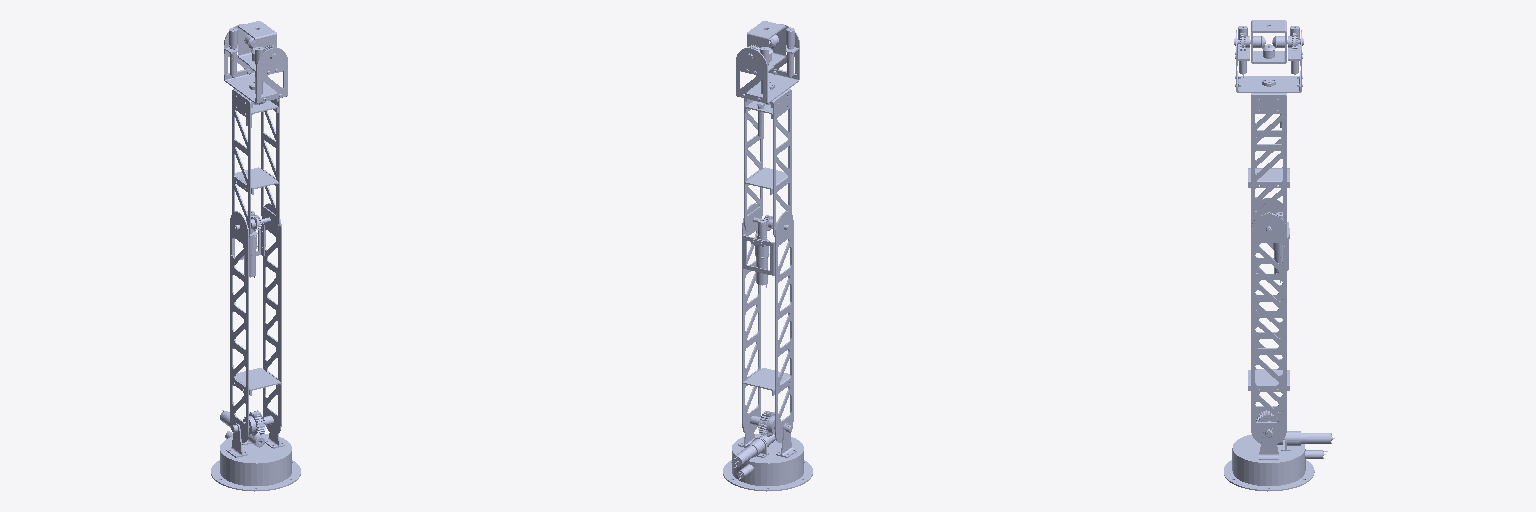
URDF robot description (HD15):
<?xml version="1.0" encoding="utf-8"?>
<!-- This URDF was automatically created by SolidWorks to URDF Exporter! Originally created by [author] ([email redacted]) 
     Commit Version: 1.6.0-1-g15f4949  Build Version: 1.6.7594.29634
     For more information, please see http://wiki.ros.org/sw_urdf_exporter -->
<robot
  name="HD15">
 <link name="world"/>
  <link name="base_link">
    <inertial>
      <origin
        xyz="4.15198377587444E-09 0.00600805147496701 0.0154110766377321"
        rpy="0 0 0" />
      <mass
        value="0.225048338313955" />
      <inertia
        ixx="3.0"
        ixy="3.0"
        ixz="3.0"
        iyy="3.0"
        iyz="3.0"
        izz="3.0" />
    </inertial>
    <visual>
      <origin
        xyz="0 0 0"
        rpy="0 0 0" />
      <geometry>
        <mesh
          filename="package://HD15/meshes/base_link.STL" />
      </geometry>
      <material
        name="">
        <color
          rgba="0.792156862745098 0.819607843137255 0.933333333333333 1" />
      </material>
    </visual>
    <collision>
      <origin
        xyz="0 0 0"
        rpy="0 0 0" />
      <geometry>
        <mesh
          filename="package://HD15/meshes/base_link.STL" />
      </geometry>
    </collision>
  </link>
  <joint name="fixed_base_joint" type="fixed">
    <parent link="world"/>
    <child link="base_link"/>
  </joint>
  <link
    name="Link_B">
    <inertial>
      <origin
        xyz="2.33121475821239E-06 0.0133974549441221 -0.00113959391343854"
        rpy="0 0 0" />
      <mass
        value="0.195776104192155" />
      <inertia
        ixx="0.00037151158802518"
        ixy="3.57391770255336E-09"
        ixz="-1.14510206503241E-08"
        iyy="0.000260641810434184"
        iyz="-6.47724249845848E-05"
        izz="0.000369007601869207" />
    </inertial>
    <visual>
      <origin
        xyz="0 0 0"
        rpy="0 0 0" />
      <geometry>
        <mesh
          filename="package://HD15/meshes/Link_B.STL" />
      </geometry>
      <material
        name="">
        <color
          rgba="0.792156862745098 0.819607843137255 0.933333333333333 1" />
      </material>
    </visual>
    <collision>
      <origin
        xyz="0 0 0"
        rpy="0 0 0" />
      <geometry>
        <mesh
          filename="package://HD15/meshes/Link_B.STL" />
      </geometry>
    </collision>
  </link>
  <joint
    name="Joint_B"
    type="revolute">
    <origin
      xyz="0 -6.3732E-05 0.057"
      rpy="0 0 0" />
    <parent
      link="base_link" />
    <child
      link="Link_B" />
    <axis
      xyz="0 0 1" />
    <limit
      lower="-3.14"
      upper="3.14"
      effort="0"
      velocity="0" />
  </joint>
  <link
    name="Link_L">
    <inertial>
      <origin
        xyz="-0.000560859740205511 0.00533997118052245 0.213660387419357"
        rpy="0 0 0" />
      <mass
        value="0.321188945587439" />
      <inertia
        ixx="0.0118715691832119"
        ixy="-9.81413327417368E-07"
        ixz="-3.88389552753312E-05"
        iyy="0.0120340387983652"
        iyz="-0.000369407889610094"
        izz="0.000519207054090904" />
    </inertial>
    <visual>
      <origin
        xyz="0 0 0"
        rpy="0 0 0" />
      <geometry>
        <mesh
          filename="package://HD15/meshes/Link_L.STL" />
      </geometry>
      <material
        name="">
        <color
          rgba="0.792156862745098 0.819607843137255 0.933333333333333 1" />
      </material>
    </visual>
    <collision>
      <origin
        xyz="0 0 0"
        rpy="0 0 0" />
      <geometry>
        <mesh
          filename="package://HD15/meshes/Link_L.STL" />
      </geometry>
    </collision>
  </link>
  <joint
    name="Joint_L"
    type="revolute">
    <origin
      xyz="0 6.37316895830578E-05 0.0620000000000001"
      rpy="0 0 0" />
    <parent
      link="Link_B" />
    <child
      link="Link_L" />
    <axis
      xyz="1 0 0" />
    <limit
      lower="-3.14"
      upper="3.14"
      effort="0"
      velocity="0" />
  </joint>
  <link
    name="Link_U">
    <inertial>
      <origin
        xyz="-0.000125159345751575 0.000986274085085861 0.178341257593513"
        rpy="0 0 0" />
      <mass
        value="0.206991170097614" />
      <inertia
        ixx="0.00313671170173883"
        ixy="-2.56428079267485E-08"
        ixz="-4.62041167196231E-06"
        iyy="0.00320425189687694"
        iyz="-2.4732756309112E-05"
        izz="0.000309068037644153" />
    </inertial>
    <visual>
      <origin
        xyz="0 0 0"
        rpy="0 0 0" />
      <geometry>
        <mesh
          filename="package://HD15/meshes/Link_U.STL" />
      </geometry>
      <material
        name="">
        <color
          rgba="0.792156862745098 0.819607843137255 0.933333333333333 1" />
      </material>
    </visual>
    <collision>
      <origin
        xyz="0 0 0"
        rpy="0 0 0" />
      <geometry>
        <mesh
          filename="package://HD15/meshes/Link_U.STL" />
      </geometry>
    </collision>
  </link>
  <joint
    name="Joint_U"
    type="revolute">
    <origin
      xyz="0 0 0.49000000000015"
      rpy="0 0 0" />
    <parent
      link="Link_L" />
    <child
      link="Link_U" />
    <axis
      xyz="-1 0 0" />
    <limit
      lower="-3.14"
      upper="3.14"
      effort="0"
      velocity="0" />
  </joint>
  <link
    name="Link_W1">
    <inertial>
      <origin
        xyz="-0.00557586157315859 3.06248505948107E-06 0.0481221096166089"
        rpy="0 0 0" />
      <mass
        value="0.15853707936973" />
      <inertia
        ixx="0.00084946148759409"
        ixy="1.0487090997576E-08"
        ixz="4.00351910340966E-05"
        iyy="0.00042085853484323"
        iyz="-2.16190125140588E-08"
        izz="0.000579515182746005" />
    </inertial>
    <visual>
      <origin
        xyz="0 0 0"
        rpy="0 0 0" />
      <geometry>
        <mesh
          filename="package://HD15/meshes/Link_W1.STL" />
      </geometry>
      <material
        name="">
        <color
          rgba="0.792156862745098 0.819607843137255 0.933333333333333 1" />
      </material>
    </visual>
    <collision>
      <origin
        xyz="0 0 0"
        rpy="0 0 0" />
      <geometry>
        <mesh
          filename="package://HD15/meshes/Link_W1.STL" />
      </geometry>
    </collision>
  </link>
  <joint
    name="Joint_W1"
    type="revolute">
    <origin
      xyz="-2.21415510546635E-05 0 0.327050000000298"
      rpy="0 0 0" />
    <parent
      link="Link_U" />
    <child
      link="Link_W1" />
    <axis
      xyz="0 0 -1" />
    <limit
      lower="-3.14"
      upper="3.14"
      effort="0"
      velocity="0" />
  </joint>
  <link
    name="Link_W2">
    <inertial>
      <origin
        xyz="1.13708146428542E-06 1.05864642315289E-07 -0.0029522829617743"
        rpy="0 0 0" />
      <mass
        value="0.198832886498719" />
      <inertia
        ixx="0.000363699833418115"
        ixy="5.4618053031833E-11"
        ixz="-2.89818886510803E-09"
        iyy="9.02807593331075E-05"
        iyz="1.81086096374364E-09"
        izz="0.000317706571914307" />
    </inertial>
    <visual>
      <origin
        xyz="0 0 0"
        rpy="0 0 0" />
      <geometry>
        <mesh
          filename="package://HD15/meshes/Link_W2.STL" />
      </geometry>
      <material
        name="">
        <color
          rgba="0.792156862745098 0.819607843137255 0.933333333333333 1" />
      </material>
    </visual>
    <collision>
      <origin
        xyz="0 0 0"
        rpy="0 0 0" />
      <geometry>
        <mesh
          filename="package://HD15/meshes/Link_W2.STL" />
      </geometry>
    </collision>
  </link>
  <joint
    name="Joint_W2"
    type="revolute">
    <origin
      xyz="0.00377214155074418 0 0.10600000000038"
      rpy="0 0 0" />
    <parent
      link="Link_W1" />
    <child
      link="Link_W2" />
    <axis
      xyz="0 -1 0" />
    <limit
      lower="-3.14"
      upper="3.14"
      effort="0"
      velocity="0" />
  </joint>
  <link
    name="Link_G">
    <inertial>
      <origin
        xyz="0.00211486063330391 7.9626807220292E-07 0.135118039658178"
        rpy="0 0 0" />
      <mass
        value="0.225799596662121" />
      <inertia
        ixx="0.00128821377222038"
        ixy="1.05323037640045E-09"
        ixz="-1.36546254837585E-05"
        iyy="0.000917295554600868"
        iyz="-7.80189175963587E-07"
        izz="0.000432893201445843" />
    </inertial>
    <visual>
      <origin
        xyz="0 0 0"
        rpy="0 0 0" />
      <geometry>
        <mesh
          filename="package://HD15/meshes/Link_G.STL" />
      </geometry>
      <material
        name="">
        <color
          rgba="0.792156862745098 0.819607843137255 0.933333333333333 1" />
      </material>
    </visual>
    <collision>
      <origin
        xyz="0 0 0"
        rpy="0 0 0" />
      <geometry>
        <mesh
          filename="package://HD15/meshes/Link_G.STL" />
      </geometry>
    </collision>
  </link>
  <joint
    name="Joint_G"
    type="revolute">
    <origin
      xyz="3.9155227249506E-05 0 0.0468299999993098"
      rpy="0 0 0" />
    <parent
      link="Link_W2" />
    <child
      link="Link_G" />
    <axis
      xyz="0 0 -1" />
    <limit
      lower="-3.14"
      upper="3.14"
      effort="0"
      velocity="0" />
  </joint>
</robot>

--- Facts derived from the render (not from the file) ---
Views: 3 orthographic renders of the robot side by side, from view 1: azimuth 30°, elevation 25°; view 2: azimuth 150°, elevation 25°; view 3: azimuth 270°, elevation 25°.
Robot: HD15 — 8 links, 7 joints (6 revolute, 1 fixed); root link world; default pose: every joint at zero.
Links seen in each view (by area): view 1: Link_L, Link_U, Link_W1, base_link, Link_B, Link_W2; view 2: Link_L, Link_U, Link_W1, base_link, Link_B, Link_W2; view 3: Link_L, Link_U, base_link, Link_B, Link_W1, Link_W2.
Boxes of the visible links, left/top/right/bottom form: Link_L: left=230, top=203, right=281, bottom=442; Link_U: left=232, top=89, right=279, bottom=236; Link_W1: left=224, top=24, right=287, bottom=104; base_link: left=211, top=431, right=300, bottom=491; Link_B: left=220, top=410, right=291, bottom=463; Link_W2: left=238, top=21, right=276, bottom=65; Link_L: left=742, top=203, right=793, bottom=442; Link_U: left=744, top=88, right=791, bottom=236; Link_W1: left=736, top=24, right=799, bottom=104; base_link: left=723, top=452, right=812, bottom=491; Link_B: left=732, top=423, right=803, bottom=467; Link_W2: left=746, top=21, right=785, bottom=65; Link_L: left=1248, top=198, right=1289, bottom=443; Link_U: left=1248, top=93, right=1289, bottom=232; base_link: left=1224, top=449, right=1327, bottom=491; Link_B: left=1232, top=428, right=1334, bottom=463; Link_W1: left=1235, top=26, right=1302, bottom=92; Link_W2: left=1234, top=20, right=1303, bottom=63.
Size in the robot's own frame: 0.1998 by 0.2476 by 1.08 metres.
Meshes: 7 distinct files referenced, 6 mesh visuals loaded (6 binary STL); not drawn: 1 (reference not matched to a file when rendering).